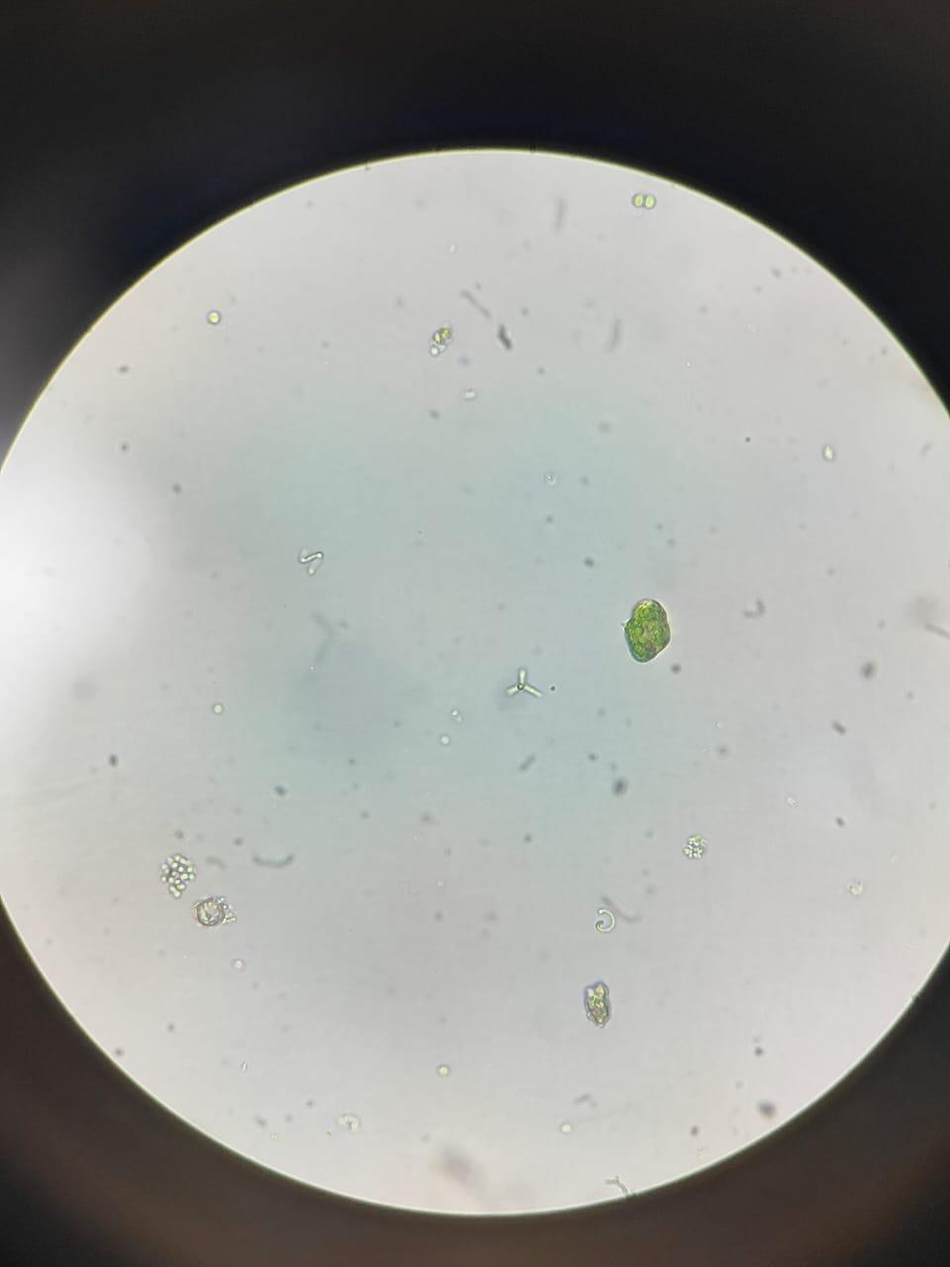Scenedesmus: (499, 654, 547, 715)
